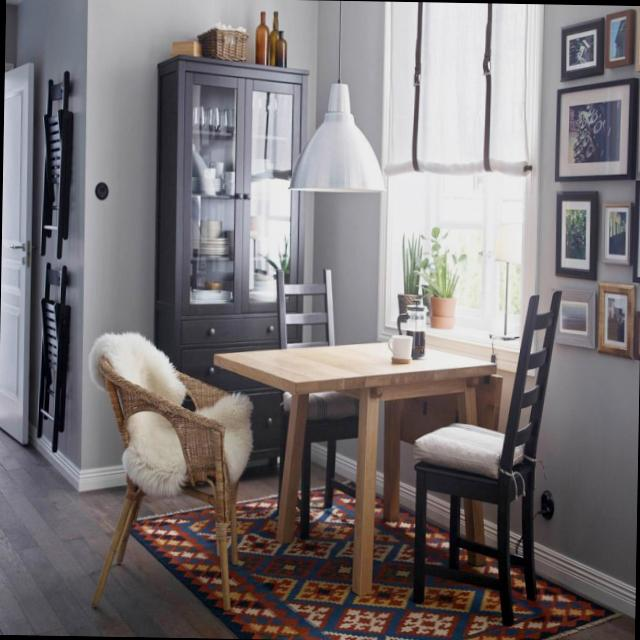obstacle: (205, 332, 500, 599), (409, 286, 563, 625), (80, 324, 254, 620)
